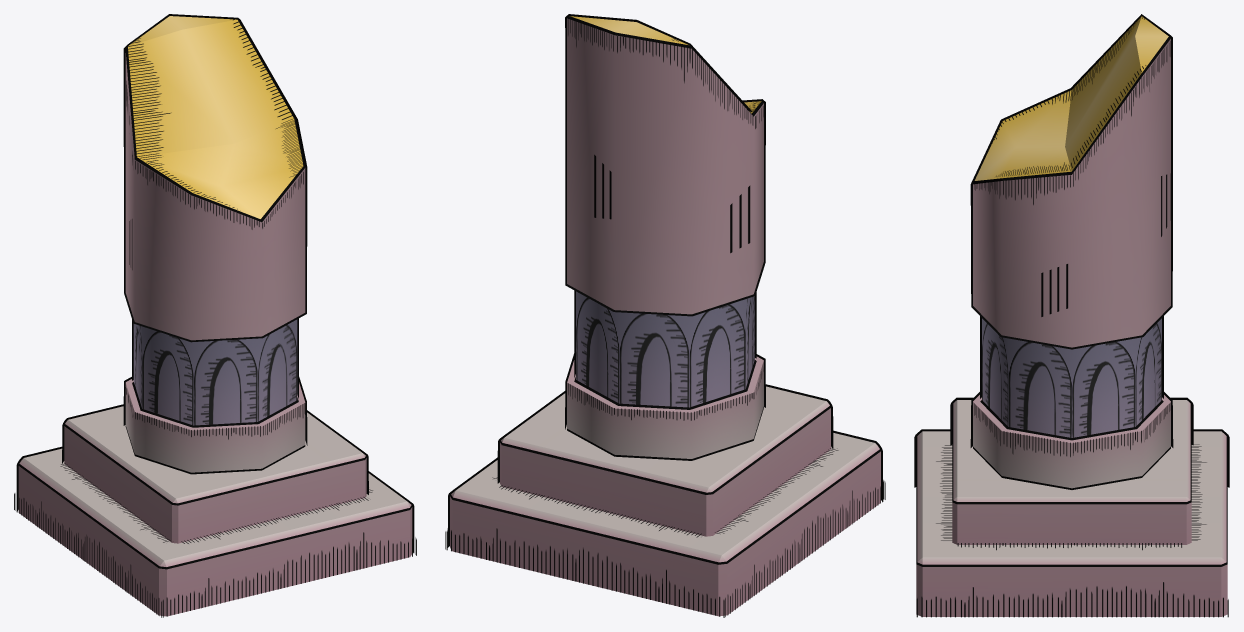
File: crystal-crossroads__Column_SmallBroken_01.glb
3 views of the same model, side by side, from view 1: azimuth 30°, elevation 25°; view 2: azimuth 150°, elevation 25°; view 3: azimuth 270°, elevation 25° (orthographic). The views are drawn at different scales.
Parts seen in each view (by area): view 1: Column_SmallBroken_01; view 2: Column_SmallBroken_01; view 3: Column_SmallBroken_01.
Boxes of the visible parts, <box> form: Column_SmallBroken_01: <box>14,14,416,617</box>; Column_SmallBroken_01: <box>445,14,885,617</box>; Column_SmallBroken_01: <box>914,14,1229,617</box>.
Size of the model in its own units: 1.01 by 1.83 by 1.01.
3 materials, 2 textured.
